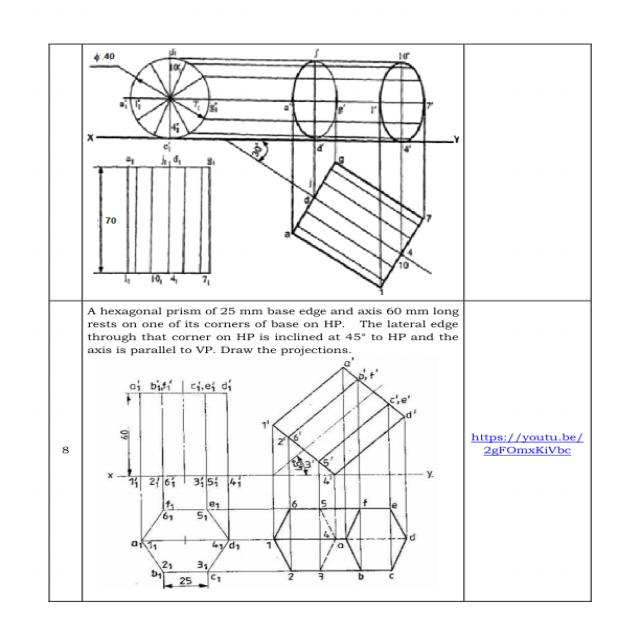Drawings: (84, 44, 465, 297), (96, 356, 443, 596)
